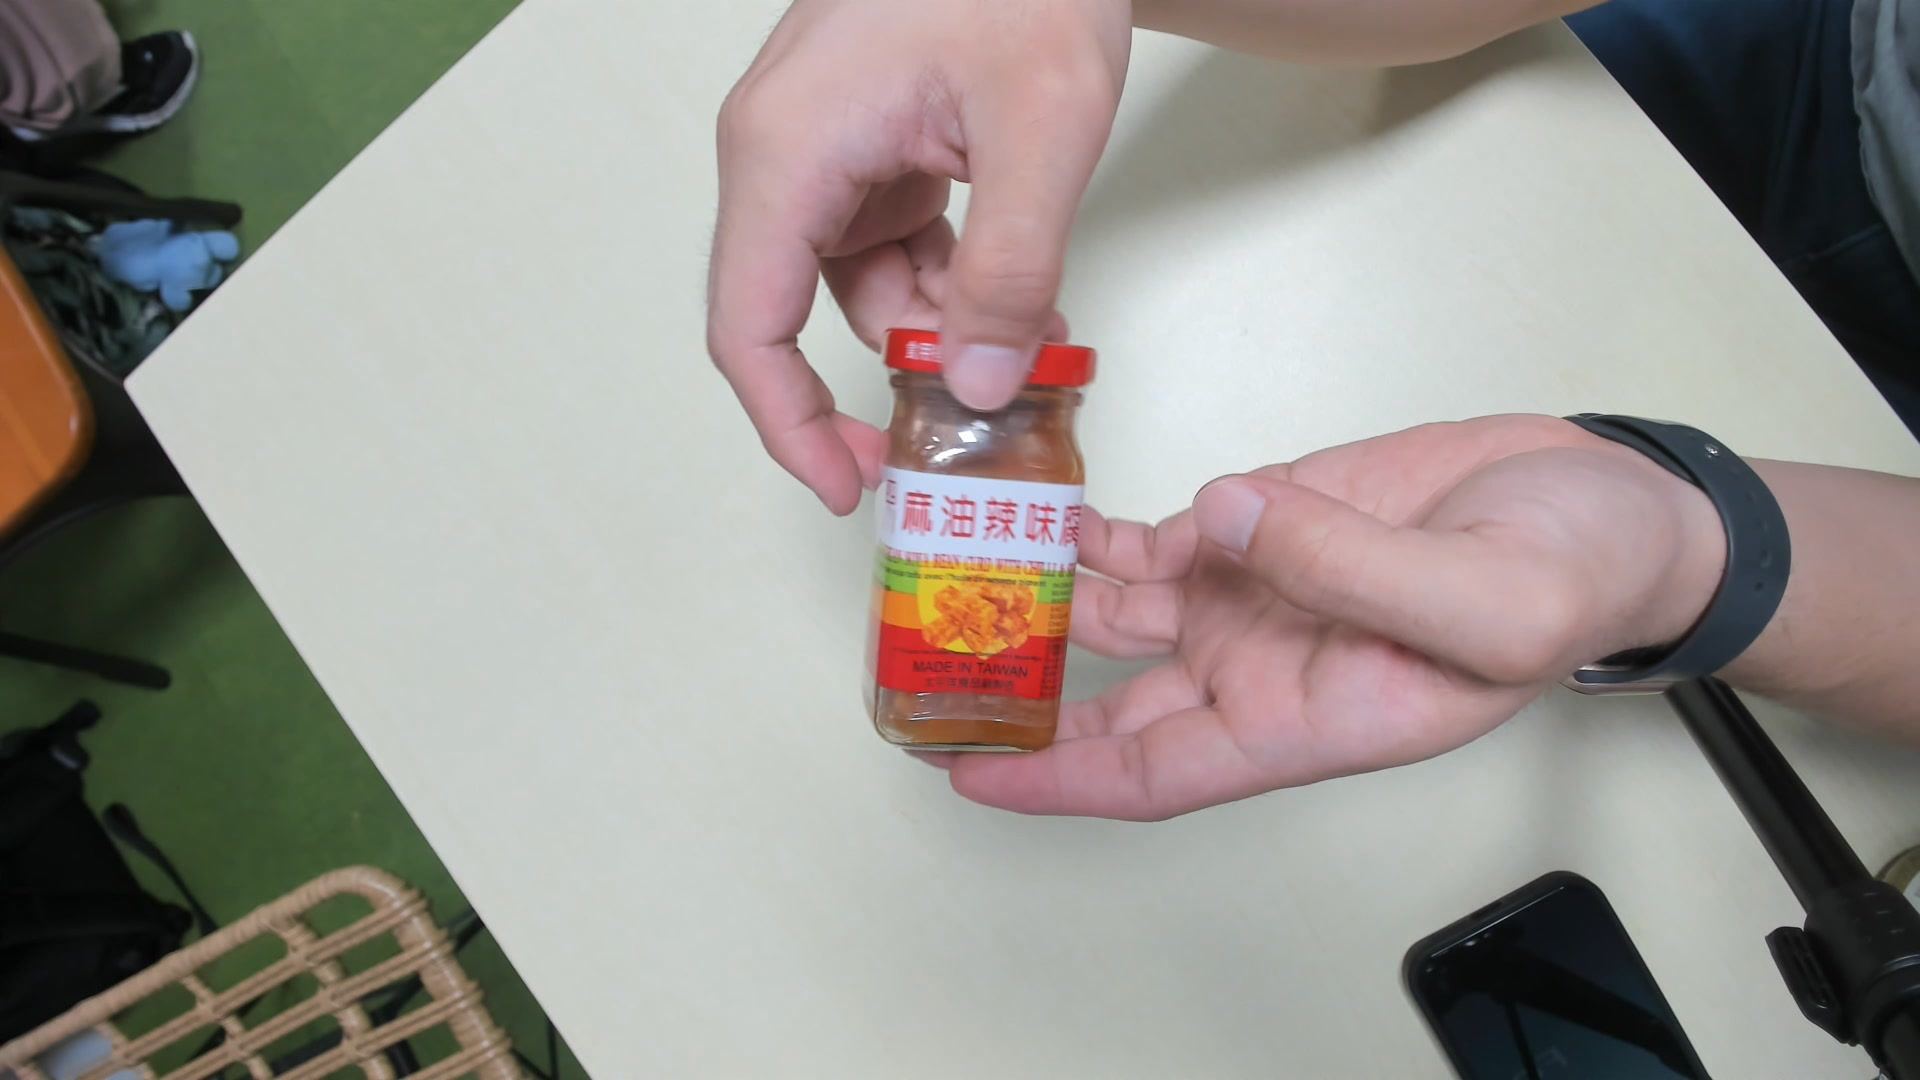OtherSauceDressing_100-199g_NonHalal_NonHealthy: (869, 320, 1096, 753)
